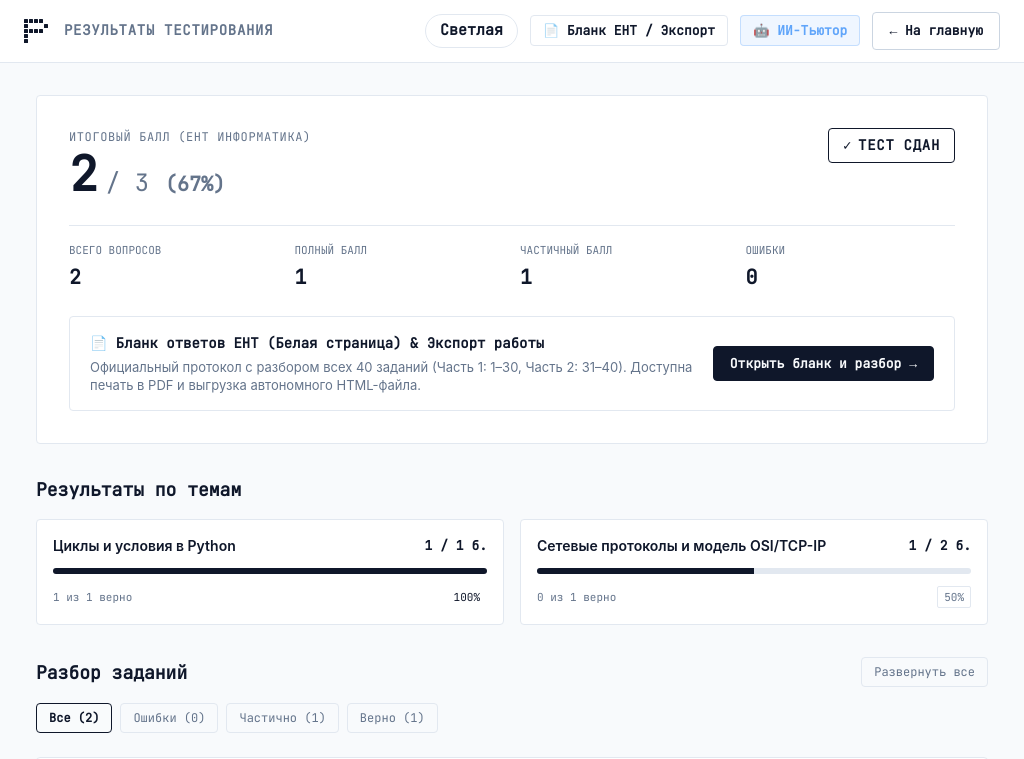
Scenario: TestResultsView › allows filtering by filter tabs and expanding review cards
Check: the button "Все (2)" is shown, box [36, 704, 112, 734]
Check: the button "Верно (1)" is shown, box [347, 704, 438, 734]
// Click filter for 'Частично'
Click the button "Частично (1)" at (283, 718), box [226, 704, 339, 734]
(page scrolled)
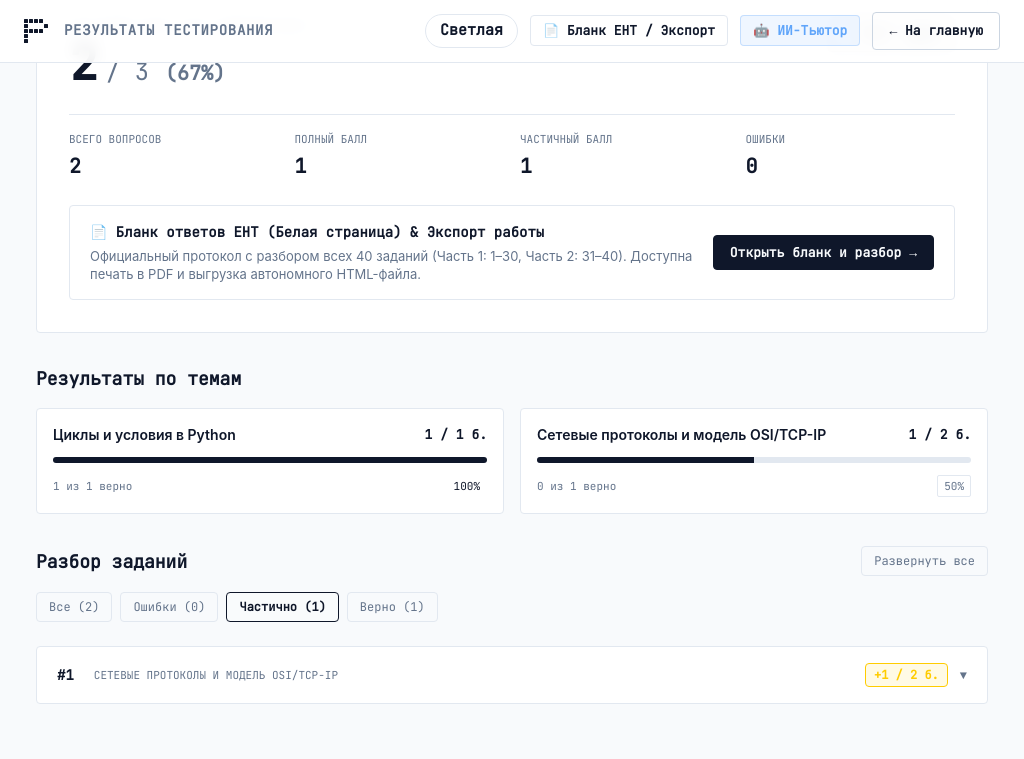
// Expand the card
Click the button "#1 Сетевые протоколы и модель OSI/TCP-IP +1 / 2 б. ▼" at (216, 675), box [37, 648, 987, 704]
(page scrolled)
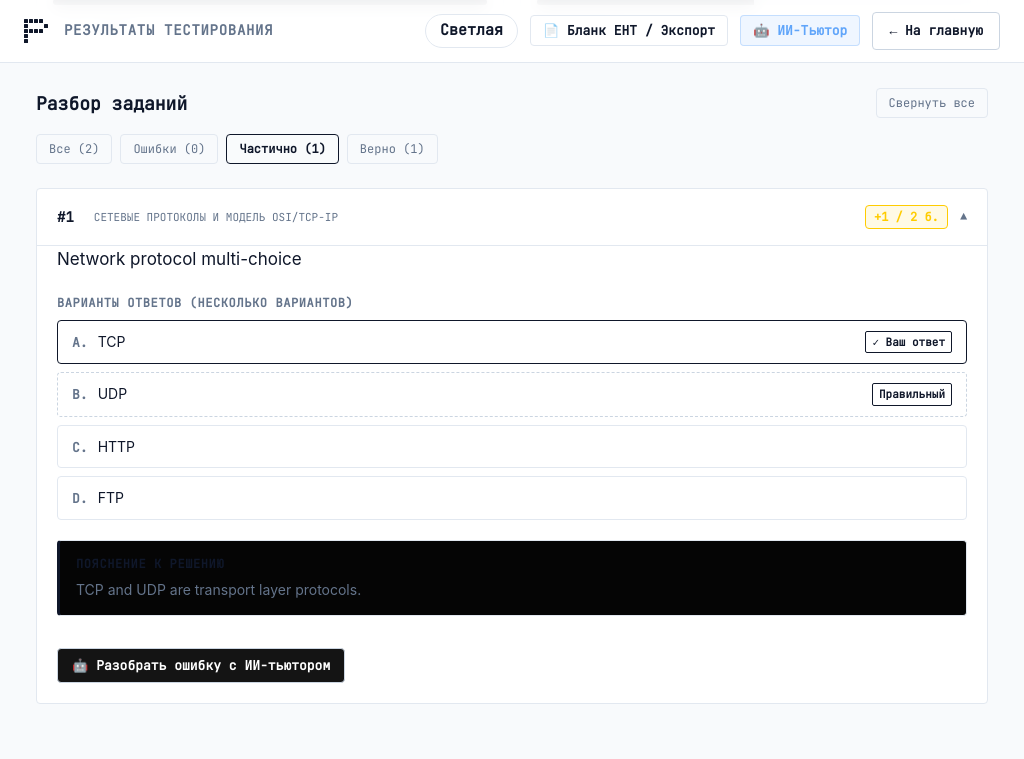
Check: the text "Network protocol multi-choice" is shown, box [57, 250, 302, 270]
Check: the text "TCP and UDP are transport layer protocols." is shown, box [76, 581, 361, 598]
